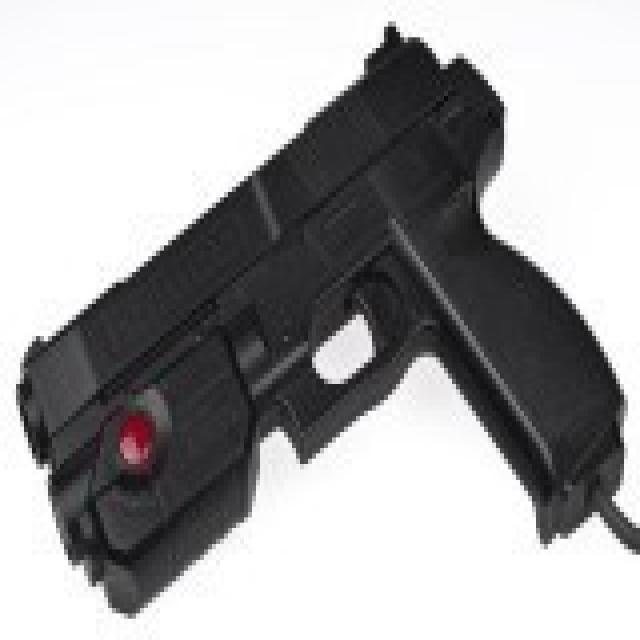Gun: (9, 34, 640, 608)
